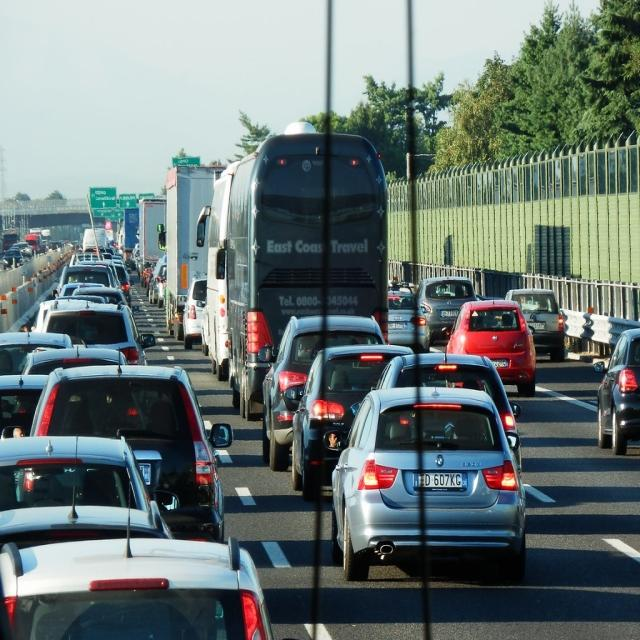Carro Branco: (0, 537, 285, 640)
Carro Cinza: (497, 285, 570, 357), (416, 272, 482, 344)
Carro Prata: (328, 387, 531, 581), (382, 292, 426, 359), (180, 275, 212, 352)
Carro Preto: (29, 363, 219, 540), (259, 311, 395, 478), (292, 342, 429, 499), (594, 325, 640, 459)
Carro Vermelho: (446, 294, 536, 398)
Onibus: (224, 131, 391, 423)
